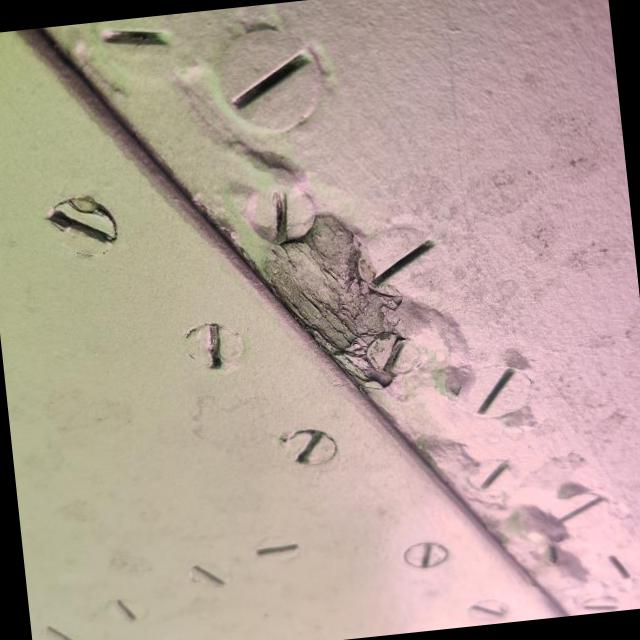Paint-off: (263, 193, 407, 386)
